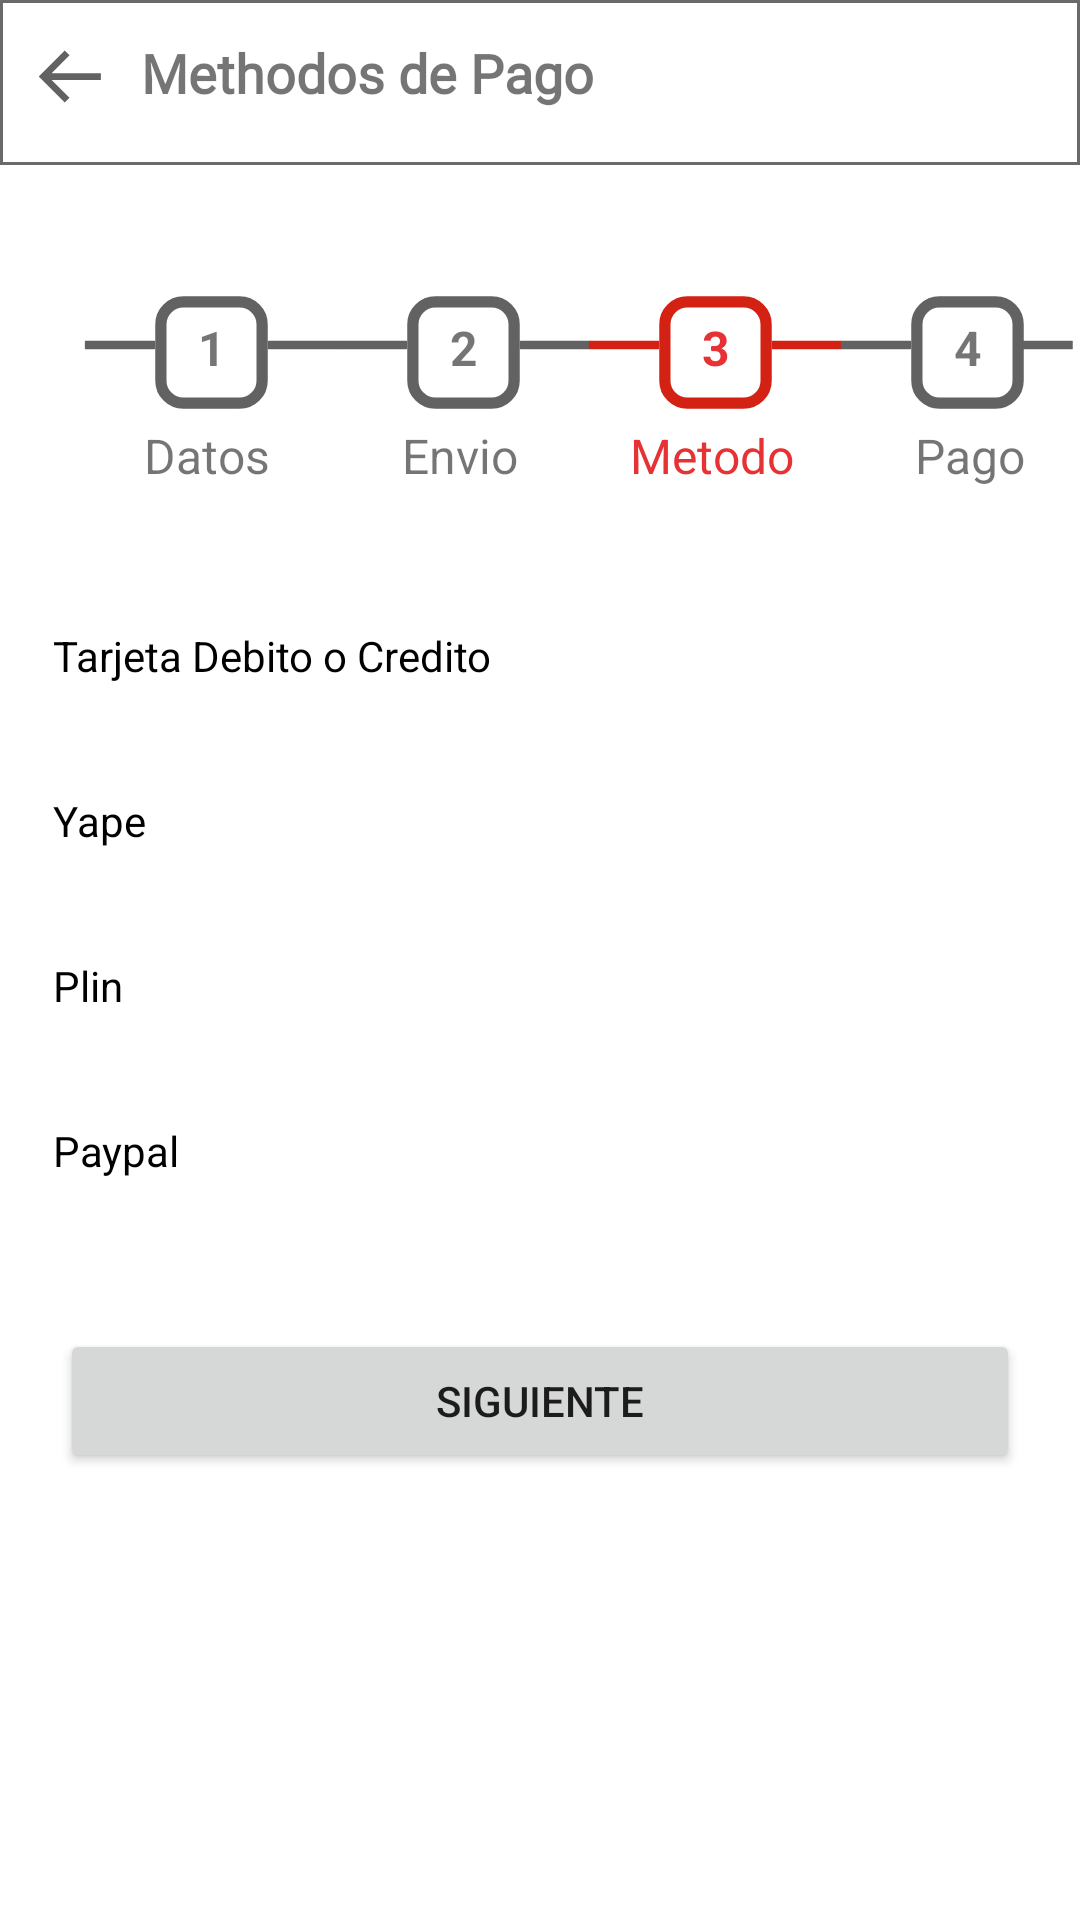

Icon bounding boxes for this 1080 x 1920 phone screenshot, format (x1, y1, x2, y2):
arrow back: (39, 50, 101, 103)
